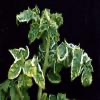Tomato leaf yellow virus: (70, 46, 83, 86), (8, 56, 25, 82), (8, 43, 30, 62), (81, 56, 94, 88), (16, 10, 38, 28), (56, 40, 68, 67), (23, 59, 39, 79), (27, 21, 40, 45)
